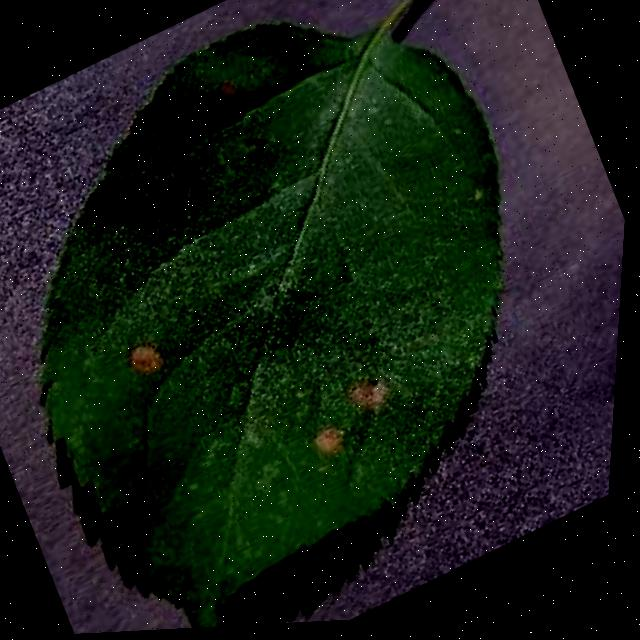black_rot: (110, 326, 180, 397), (333, 359, 404, 427), (297, 417, 351, 472), (206, 68, 248, 113)
